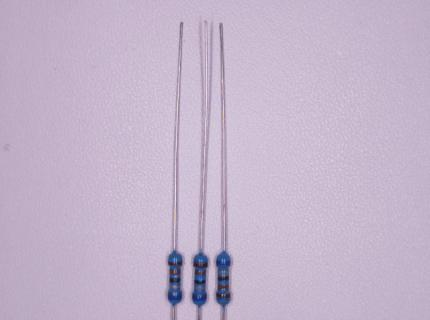Black band: (218, 276, 229, 281), (169, 278, 180, 283), (194, 280, 205, 284)
Blue band: (168, 294, 182, 300), (216, 260, 230, 265), (193, 296, 206, 301)
Brown band: (216, 293, 230, 298), (194, 262, 207, 267), (168, 261, 182, 265)
Grey band: (194, 286, 205, 290), (218, 271, 229, 274), (170, 285, 180, 288)
Orange band: (218, 285, 229, 290), (170, 270, 180, 275), (195, 271, 206, 275)
